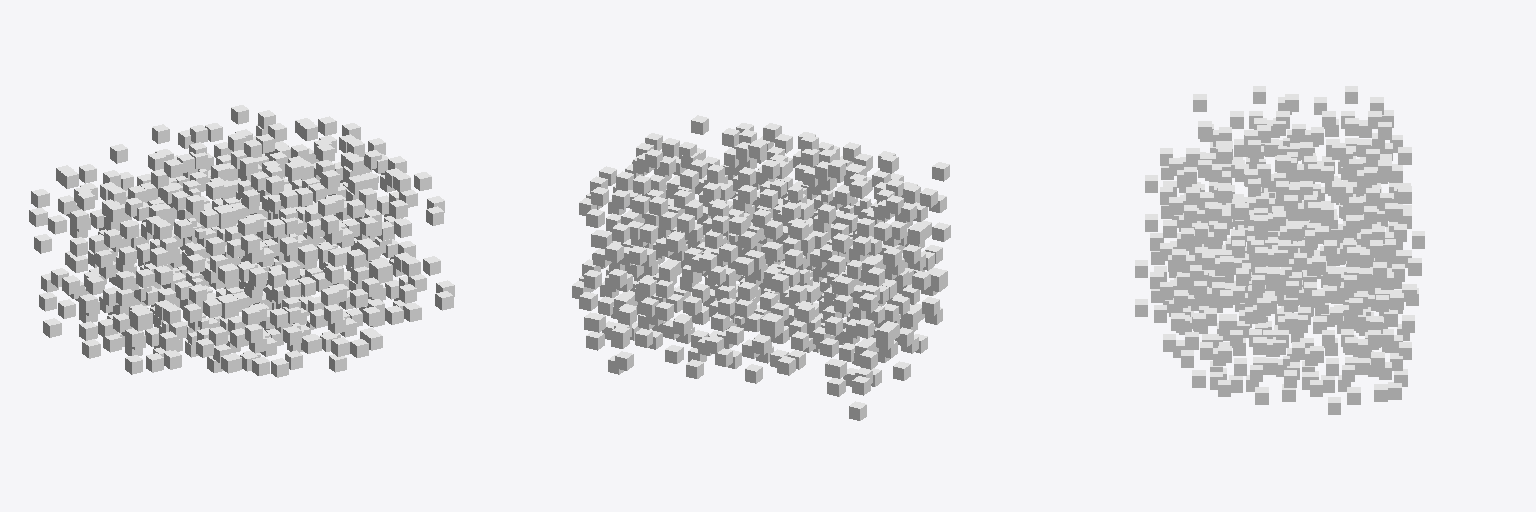
File: box_world.obj
The picture shows the model from 3 angles: view 1: azimuth 30°, elevation 25°; view 2: azimuth 150°, elevation 25°; view 3: azimuth 270°, elevation 25°; orthographic projection.
Size of the model in its own units: 36.65 by 19.97 by 27.44.